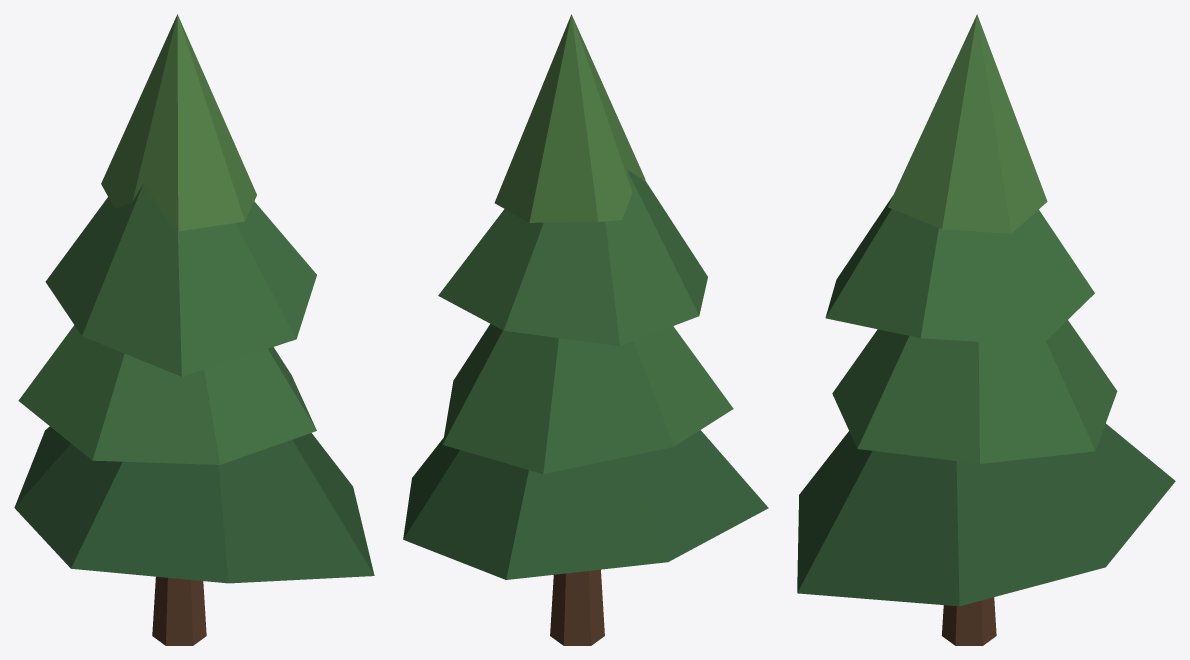
The model's file is Tree_Pine_A.fbx.
The picture shows the model from 3 angles, left to right: view 1: azimuth 30°, elevation 25°; view 2: azimuth 150°, elevation 25°; view 3: azimuth 270°, elevation 25°; orthographic projection.
Visible parts, largest first — view 1: Tree_Pine_A; view 2: Tree_Pine_A; view 3: Tree_Pine_A.
Part boxes in pixels (x1,y1,x2,y2): Tree_Pine_A: [14, 14, 374, 645]; Tree_Pine_A: [403, 14, 768, 645]; Tree_Pine_A: [797, 14, 1175, 645].
Size of the model in its own units: 1.75 by 3.26 by 1.8.
